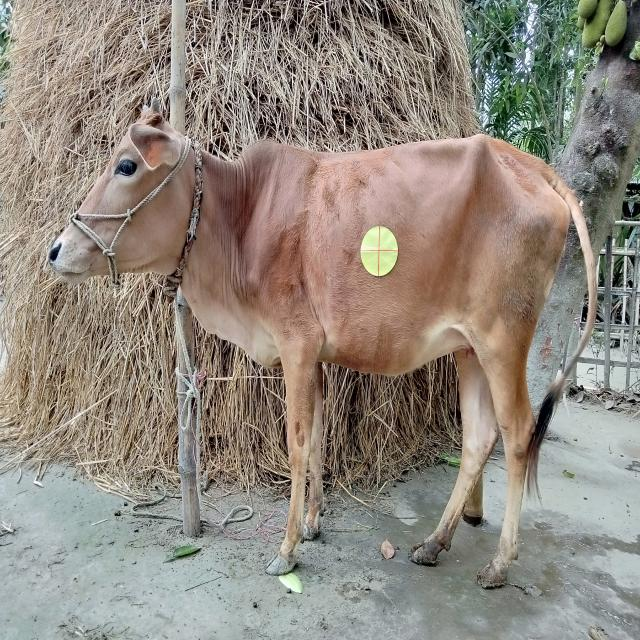badan_sapi: (250, 148, 566, 372)
sapi: (32, 97, 600, 602)
